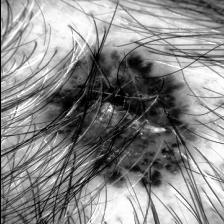Potentially Malignant Skin Tumors: (64, 53, 181, 173)
